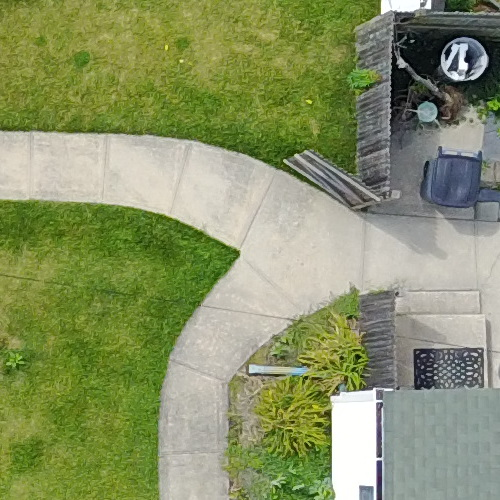container: (408, 86, 440, 129)
trash bin: (406, 138, 500, 226), (436, 24, 495, 98)
